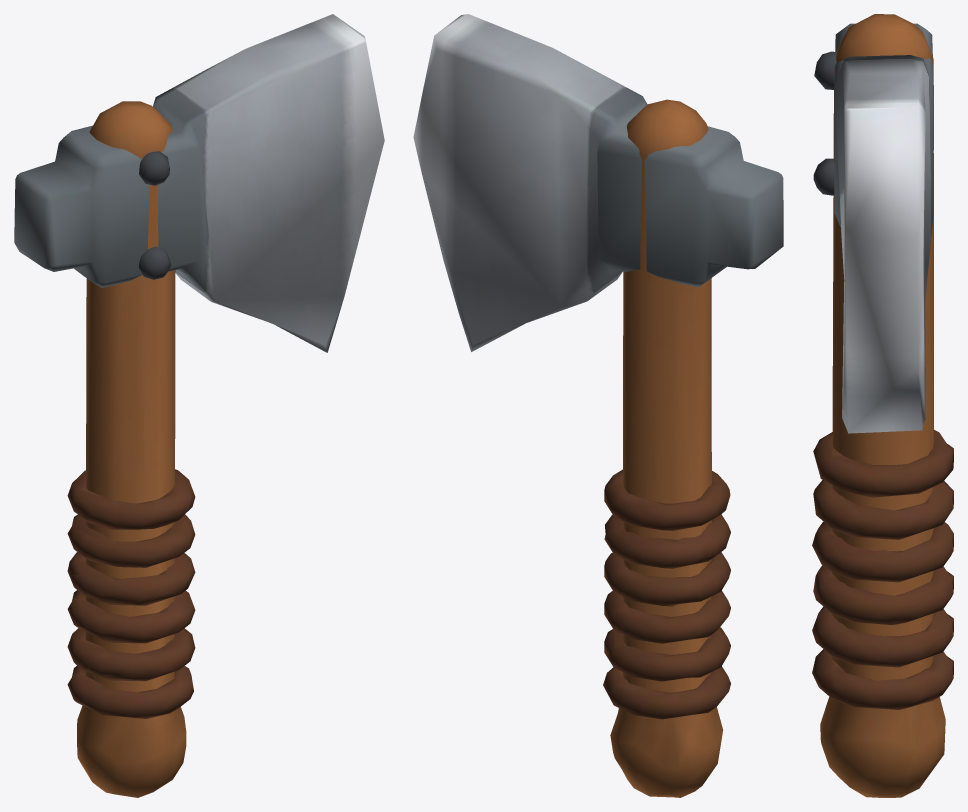
The model's file is throwing-axe.glb.
3 renders of one model, left to right at view 1: azimuth 30°, elevation 25°; view 2: azimuth 150°, elevation 25°; view 3: azimuth 270°, elevation 25°, orthographic. The views are drawn at different scales.
Visible parts, largest first — view 1: handle; view 2: handle; view 3: handle.
Part boxes in pixels (x1,y1,x2,y2): handle: (14,14,384,797); handle: (413,14,783,797); handle: (812,14,953,797).
Bounding box in the file's own units: 0.264 × 0.5306 × 0.0847.
1 material, 1 textured.
